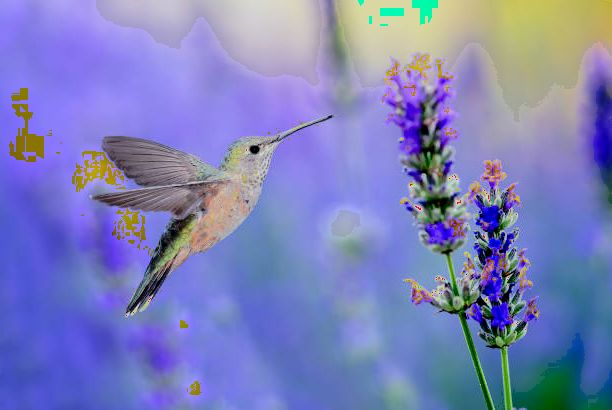Bird: (93, 113, 334, 321)
